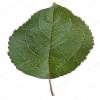Apple leaf: (5, 1, 97, 81)
